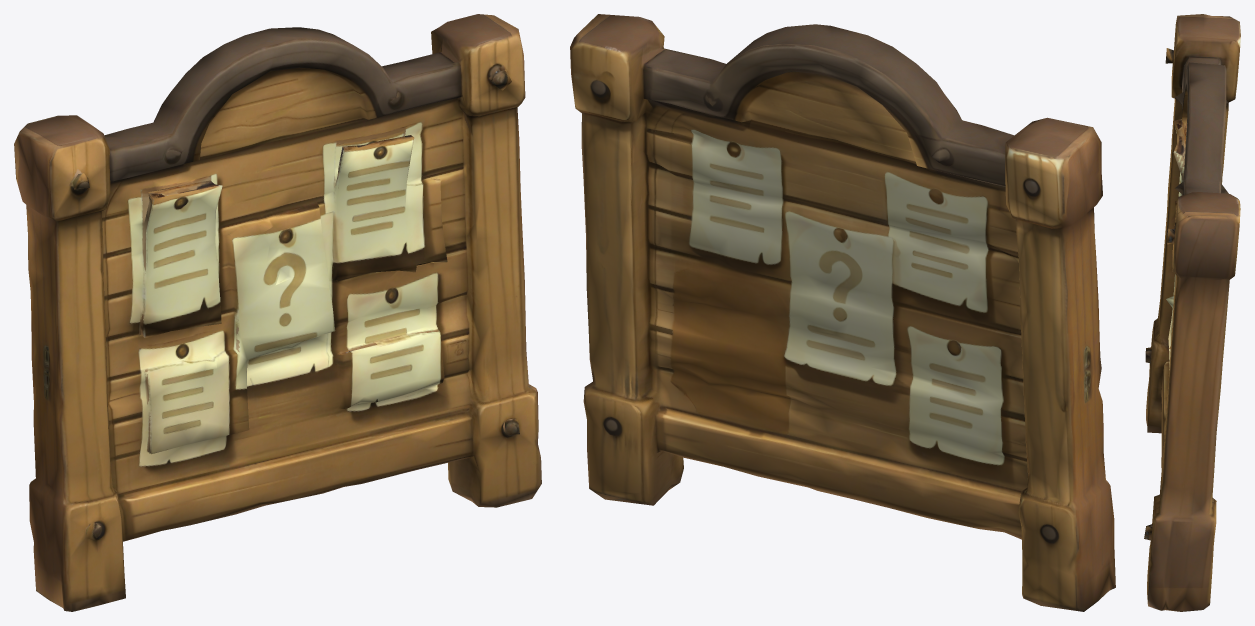
The model's file is Mission.glb.
3 views of the same model, side by side, from view 1: azimuth 30°, elevation 25°; view 2: azimuth 150°, elevation 25°; view 3: azimuth 270°, elevation 25° (orthographic). The views are drawn at different scales.
Bounding box in the file's own units: 2 × 1.99 × 0.4018.
Materials: 1 (1 with a texture image).
